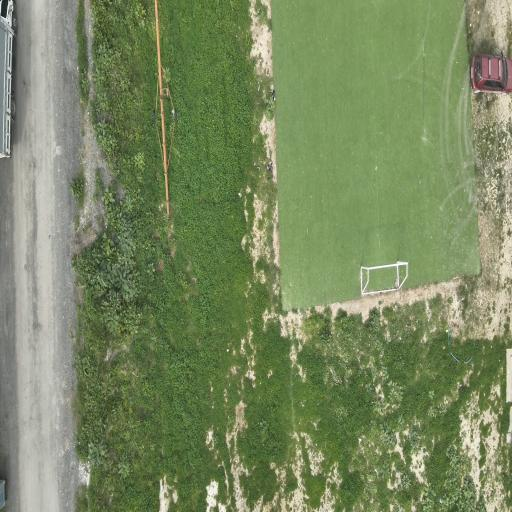car: (471, 55, 511, 93)
truck: (0, 0, 16, 157)
